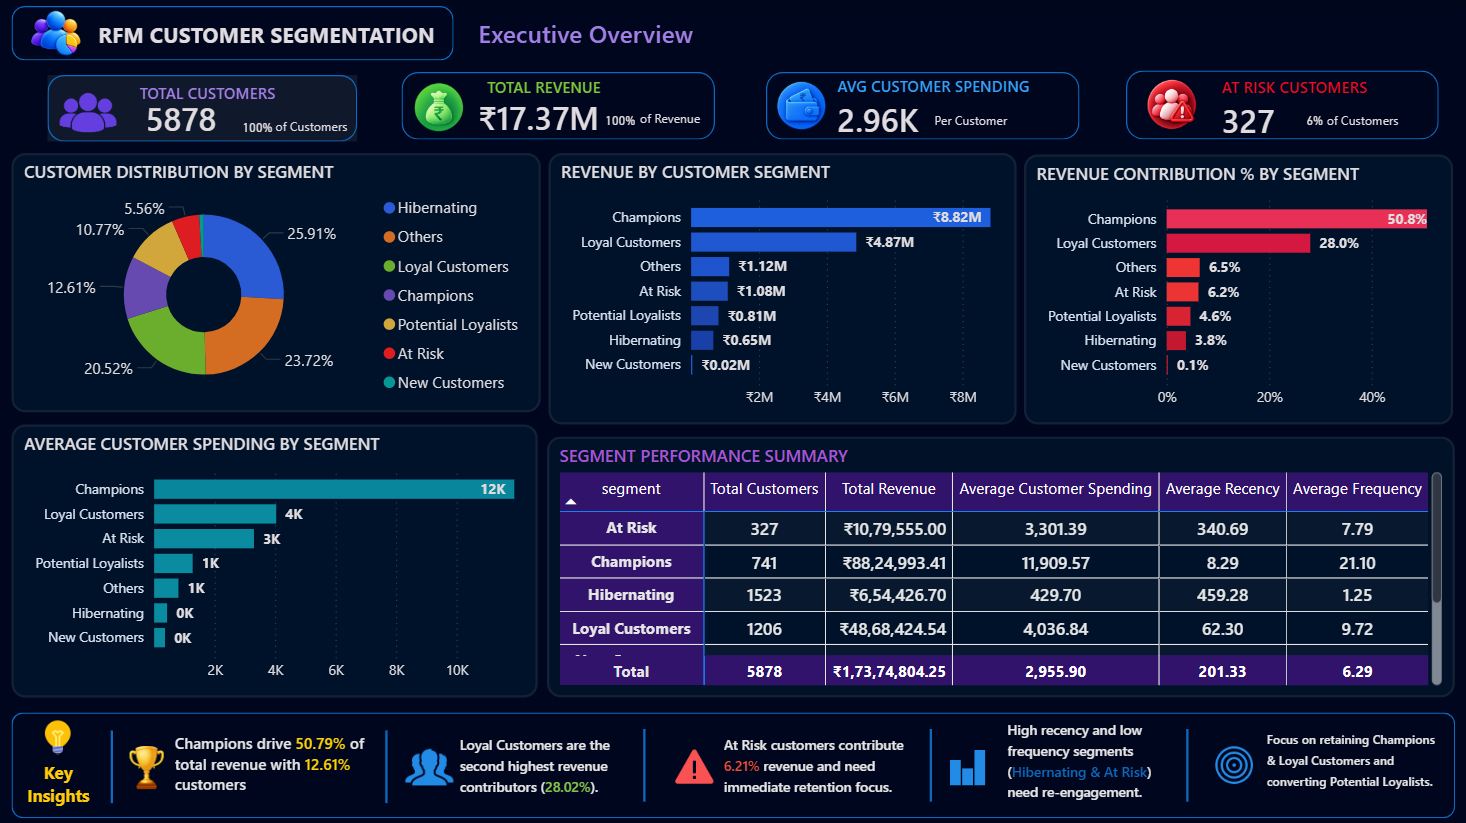

What the dashboard file says about the page in this screenshot:
{"tool":"powerbi","page":{"name":"Executive Overview","canvas":[1280,720],"ordinal":0},"visuals":[{"type":"textbox","box":[74.8,11.5,319.3,36],"z":0},{"type":"shape","box":[982.9,61.4,272.5,60.1],"z":0,"group":"g1"},{"type":"shape","box":[43.1,65.4,269.9,58],"z":1000,"group":"g3"},{"type":"barChart","title":"REVENUE BY CUSTOMER SEGMENT","fields":{"Category":["RFM.segment"],"Y":["RFM.Total Revenue"]},"box":[479.9,133.4,407.9,236.7],"z":1000},{"type":"card","fields":{"Values":["RFM.Total_Customers"]},"box":[104.9,89.4,109.3,30.6],"z":2000,"group":"g3"},{"type":"barChart","title":"REVENUE CONTRIBUTION % BY SEGMENT","fields":{"Category":["RFM.segment"],"Y":["RFM.Revenue Contribution %"]},"box":[894.4,134.7,374,235.4],"z":2000},{"type":"card","fields":{"Values":["RFM.Total_Revenue"]},"box":[408.8,84.5,123.7,36],"z":3000,"group":"g4"},{"type":"clusteredBarChart","title":"AVERAGE CUSTOMER SPENDING BY SEGMENT","fields":{"Y":["RFM.Average Customer Spending"],"Category":["RFM.segment"]},"box":[11.8,370,458.9,238],"z":3000},{"type":"shape","box":[11.5,5.8,385.4,47.5],"z":4000},{"type":"textbox","box":[104.9,67.2,156.2,29.2],"z":5000,"group":"g3"},{"type":"card","fields":{"Values":["RFM.Average Customer Spending"]},"box":[719.7,88.7,94.9,31.6],"z":5000,"group":"g5"},{"type":"card","fields":{"Values":["RFM.At Risk Customers"]},"box":[1056,90.7,66,30.8],"z":5000,"group":"g1"},{"type":"pivotTable","title":"SEGMENT PERFORMANCE SUMMARY","fields":{"Rows":["RFM.segment"],"Values":["RFM.Total Customers","RFM.Total Revenue","RFM.Average Customer Spending","RFM.Average Recency","RFM.Average Frequency"]},"box":[478.6,380.5,791.1,227.5],"z":5000},{"type":"shape","box":[11.5,621.3,1258.3,92],"z":6000},{"type":"textbox","box":[149.6,632.8,184.1,69],"z":7000},{"type":"textbox","box":[396.9,634.2,174,64.7],"z":8000},{"type":"textbox","box":[627,634.2,166.8,69],"z":9000},{"type":"textbox","box":[874.4,621.3,163.9,90.6],"z":10000},{"type":"textbox","box":[1101.6,628.5,166.8,80.5],"z":11000},{"type":"textbox","box":[7.2,657.2,92,54.6],"z":12000},{"type":"donutChart","title":"CUSTOMER DISTRIBUTION BY SEGMENT","fields":{"Category":["RFM.segment"],"Y":["CountNonNull(RFM.Customer ID)"]},"box":[11.8,133.4,461.6,226.2],"z":13000},{"type":"textbox","box":[408.4,8.6,212.8,41.7],"z":14000},{"type":"group","id":"g1","title":"Group 3","box":[982.9,61.4,272.5,60.1],"z":15000},{"type":"group","id":"g2","title":"Group 4","box":[669.4,59.9,272.5,63],"z":16000},{"type":"group","id":"g3","title":"Group 6","box":[43.1,65.4,269.4,60.1],"z":17000},{"type":"group","id":"g4","title":"Group 7","box":[351.7,61.5,273.3,60.1],"z":18000},{"type":"image","box":[30.2,625.6,44.6,36],"z":19000},{"type":"image","box":[1054.1,645.7,47.5,41.7],"z":20000},{"type":"image","box":[589.6,647.2,34.5,43.1],"z":21000},{"type":"image","box":[353.8,648.6,43.1,41.7],"z":22000},{"type":"image","box":[107.9,648.6,44.6,41.7],"z":23000},{"type":"image","box":[818.3,651.5,53.2,33.1],"z":24000},{"type":"shape","box":[332.2,637.1,12.9,63.3],"z":25000},{"type":"shape","box":[86.3,637.1,25.9,63.3],"z":26000},{"type":"shape","box":[550.8,635.6,25.9,63.3],"z":27000},{"type":"shape","box":[799.6,635.6,25.9,63.3],"z":28000},{"type":"shape","box":[351.7,62.9,273.2,59],"z":29000,"group":"g6"},{"type":"shape","box":[1023.9,635.6,25.9,63.3],"z":29000},{"type":"textbox","box":[412.8,61.5,125.5,28.8],"z":30000,"group":"g6"},{"type":"image","box":[42.5,74,70.9,47.3],"z":30000},{"type":"textbox","box":[234.2,94.1,75.8,31.4],"z":30000,"group":"g3"},{"type":"image","box":[354.4,72.5,59.9,44.1],"z":31000},{"type":"group","id":"g5","title":"Group 2","box":[669.4,59.9,273.2,61.8],"z":32000,"group":"g2"},{"type":"textbox","box":[1056,61.4,147.7,32.2],"z":32000,"group":"g1"},{"type":"image","box":[672.6,70.9,56.7,44.1],"z":32000},{"type":"group","id":"g6","title":"Group 5","box":[351.7,61.5,273.2,60.4],"z":33000,"group":"g4"},{"type":"shape","box":[669.4,62.8,273.2,59],"z":33000,"group":"g7"},{"type":"image","box":[993.9,67.7,59.9,47.3],"z":33000},{"type":"image","box":[25.9,7.2,48.9,46],"z":34000},{"type":"textbox","box":[552,87.8,66.2,31.5],"z":34000,"group":"g6"},{"type":"textbox","box":[796,88.7,103.5,28.8],"z":35000,"group":"g2"},{"type":"card","fields":{"Values":["RFM.Total Customer %"]},"box":[204.8,99.2,41,26.8],"z":35000},{"type":"textbox","box":[1152.6,88.7,74.8,30.2],"z":35004,"group":"g1"},{"type":"card","fields":{"Values":["RFM.Total Revenue %"]},"box":[520.6,92,43.1,24.4],"z":36000},{"type":"card","fields":{"Values":["RFM.At Risk Customer %"]},"box":[1133.2,92,27.3,24.4],"z":37000},{"type":"textbox","box":[719.7,59.9,192.7,33.1],"z":37001,"group":"g7"},{"type":"group","id":"g7","title":"Group 1","box":[669.4,59.9,273.2,61.8],"z":37002,"group":"g5"}]}

Visuals, with their boxes in screenshot pixels (x1, y1, x2, y2), scaled from the page's 1280x720 canvas onto the 1466x823 screenshot:
textbox: rect(86, 13, 451, 54)
shape: rect(1126, 70, 1438, 139)
shape: rect(49, 75, 358, 141)
"REVENUE BY CUSTOMER SEGMENT" barChart: rect(550, 152, 1017, 423)
card - RFM.Total_Customers: rect(120, 102, 245, 137)
"REVENUE CONTRIBUTION % BY SEGMENT" barChart: rect(1024, 154, 1453, 423)
card - RFM.Total_Revenue: rect(468, 97, 610, 138)
"AVERAGE CUSTOMER SPENDING BY SEGMENT" clusteredBarChart: rect(14, 423, 539, 695)
shape: rect(13, 7, 455, 61)
textbox: rect(120, 77, 299, 110)
card - RFM.Average Customer Spending: rect(824, 101, 933, 138)
card - RFM.At Risk Customers: rect(1209, 104, 1285, 139)
"SEGMENT PERFORMANCE SUMMARY" pivotTable: rect(548, 435, 1454, 695)
shape: rect(13, 710, 1454, 815)
textbox: rect(171, 723, 382, 802)
textbox: rect(455, 725, 654, 799)
textbox: rect(718, 725, 909, 804)
textbox: rect(1001, 710, 1189, 814)
textbox: rect(1262, 718, 1453, 810)
textbox: rect(8, 751, 114, 814)
"CUSTOMER DISTRIBUTION BY SEGMENT" donutChart: rect(14, 152, 542, 411)
textbox: rect(468, 10, 711, 57)
"Group 3" group: rect(1126, 70, 1438, 139)
"Group 4" group: rect(767, 68, 1079, 140)
"Group 6" group: rect(49, 75, 358, 143)
"Group 7" group: rect(403, 70, 716, 139)
image: rect(35, 715, 86, 756)
image: rect(1207, 738, 1262, 786)
image: rect(675, 740, 715, 789)
image: rect(405, 741, 455, 789)
image: rect(124, 741, 175, 789)
image: rect(937, 745, 998, 783)
shape: rect(380, 728, 395, 801)
shape: rect(99, 728, 129, 801)
shape: rect(631, 727, 661, 799)
shape: rect(916, 727, 945, 799)
shape: rect(403, 72, 716, 139)
shape: rect(1173, 727, 1202, 799)
textbox: rect(473, 70, 617, 103)
image: rect(49, 85, 130, 139)
textbox: rect(268, 108, 355, 143)
image: rect(406, 83, 475, 133)
"Group 2" group: rect(767, 68, 1080, 139)
textbox: rect(1209, 70, 1379, 107)
image: rect(770, 81, 835, 131)
"Group 5" group: rect(403, 70, 716, 139)
shape: rect(767, 72, 1080, 139)
image: rect(1138, 77, 1207, 131)
image: rect(30, 8, 86, 61)
textbox: rect(632, 100, 708, 136)
textbox: rect(912, 101, 1030, 134)
card - RFM.Total Customer %: rect(235, 113, 282, 144)
textbox: rect(1320, 101, 1406, 136)
card - RFM.Total Revenue %: rect(596, 105, 646, 133)
card - RFM.At Risk Customer %: rect(1298, 105, 1329, 133)
textbox: rect(824, 68, 1045, 106)
"Group 1" group: rect(767, 68, 1080, 139)
